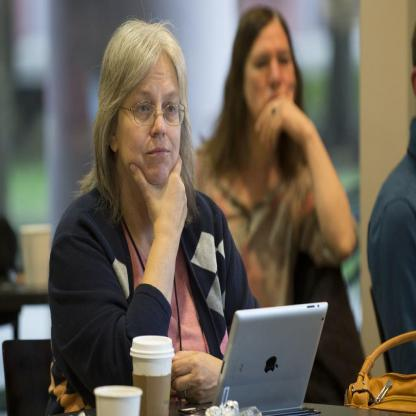board: (209, 299, 334, 409), (134, 335, 174, 416), (95, 384, 142, 416)
